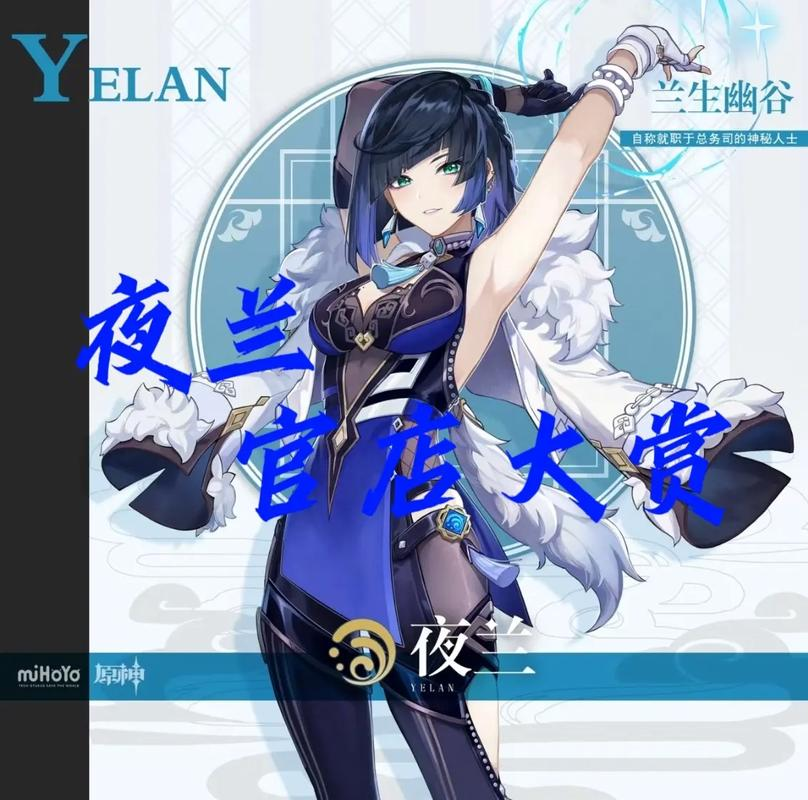夜兰: (240, 19, 703, 800)
